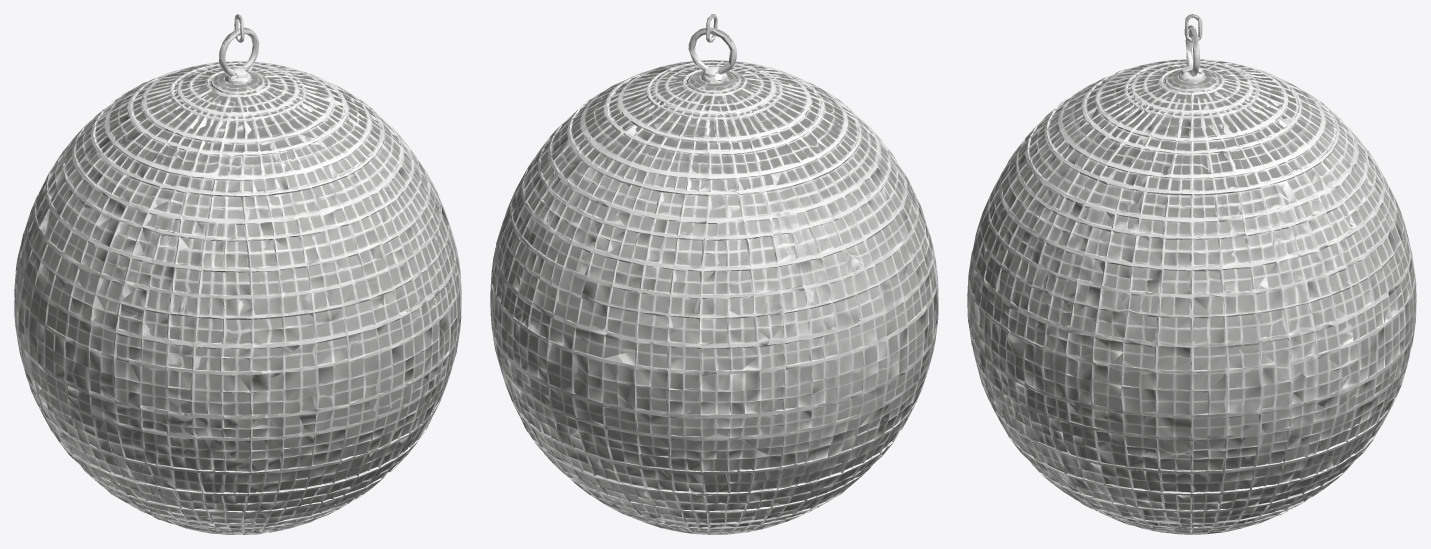
The model's file is disco-ball.glb.
The picture shows the model from 3 angles, left to right: view 1: azimuth 30°, elevation 25°; view 2: azimuth 150°, elevation 25°; view 3: azimuth 270°, elevation 25°; orthographic projection.
Visible parts, largest first — view 1: Mesh_0; view 2: Mesh_0; view 3: Mesh_0.
Part boxes in pixels (x1,y1,x2,y2): Mesh_0: [14, 14, 461, 534]; Mesh_0: [490, 14, 938, 534]; Mesh_0: [967, 14, 1416, 534].
Bounding box in the file's own units: 0.8101 × 1 × 0.8098.
1 material, 1 textured.
